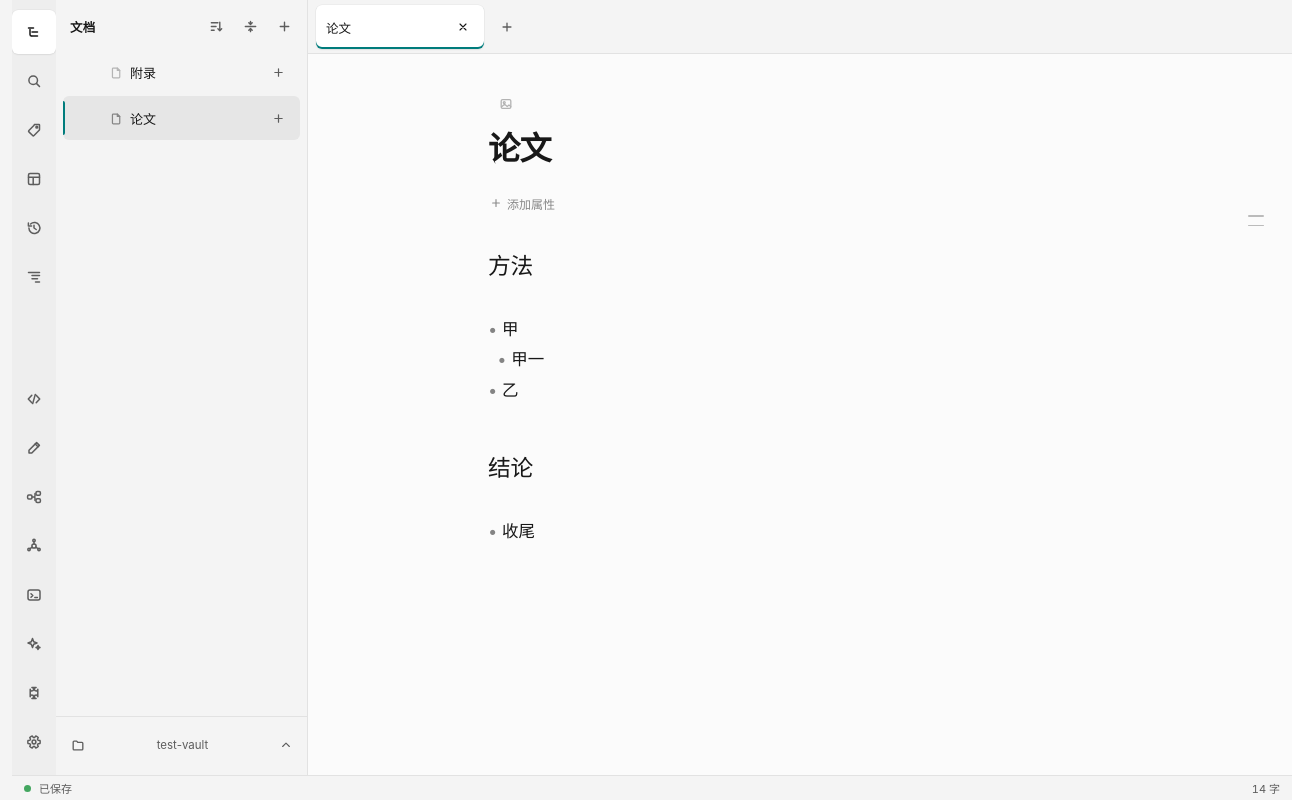
Test: 项目默认视图 › 项目中心可以把当前普通笔记原地设为项目
Click the button named "项目中心". click: click(34, 546)
box: x1=12 y1=524 x2=56 y2=568
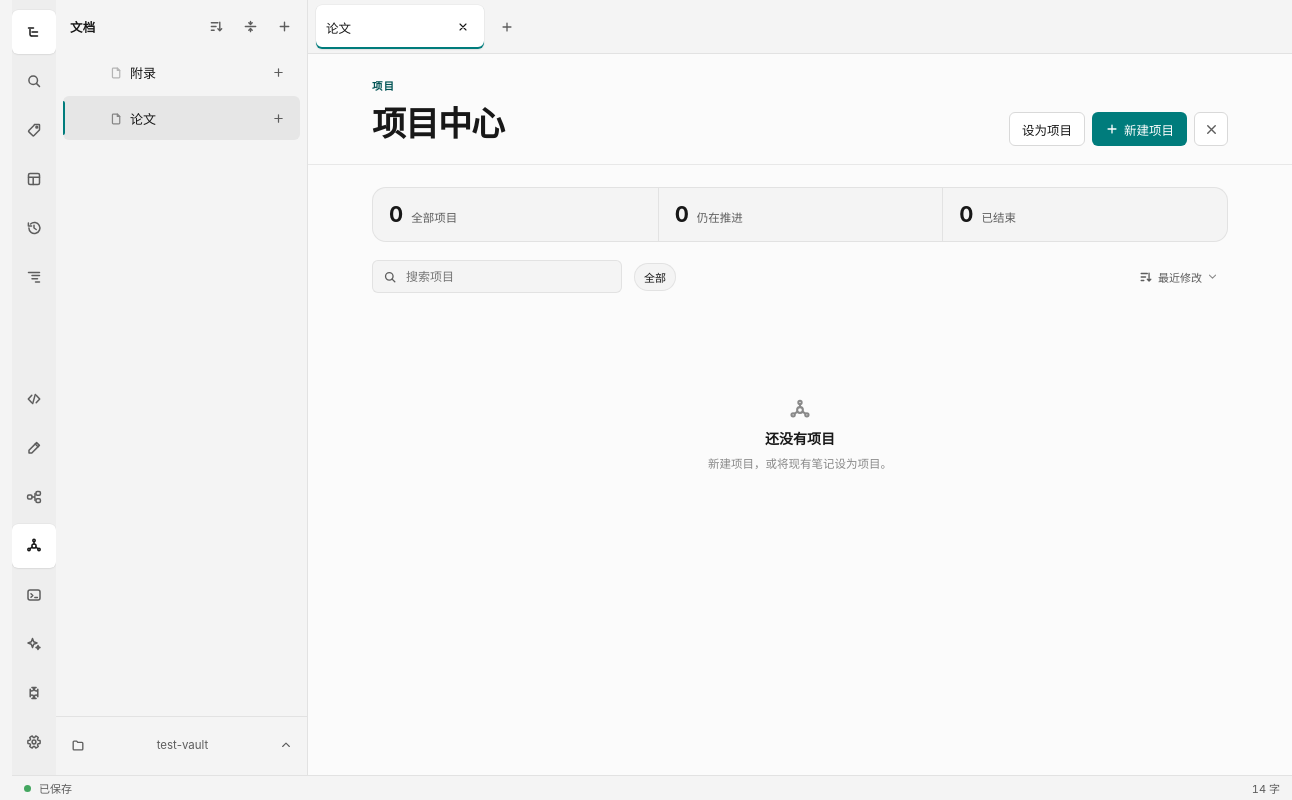
Click the button "设为项目". click: click(1047, 129)
box: x1=1009 y1=112 x2=1085 y2=146
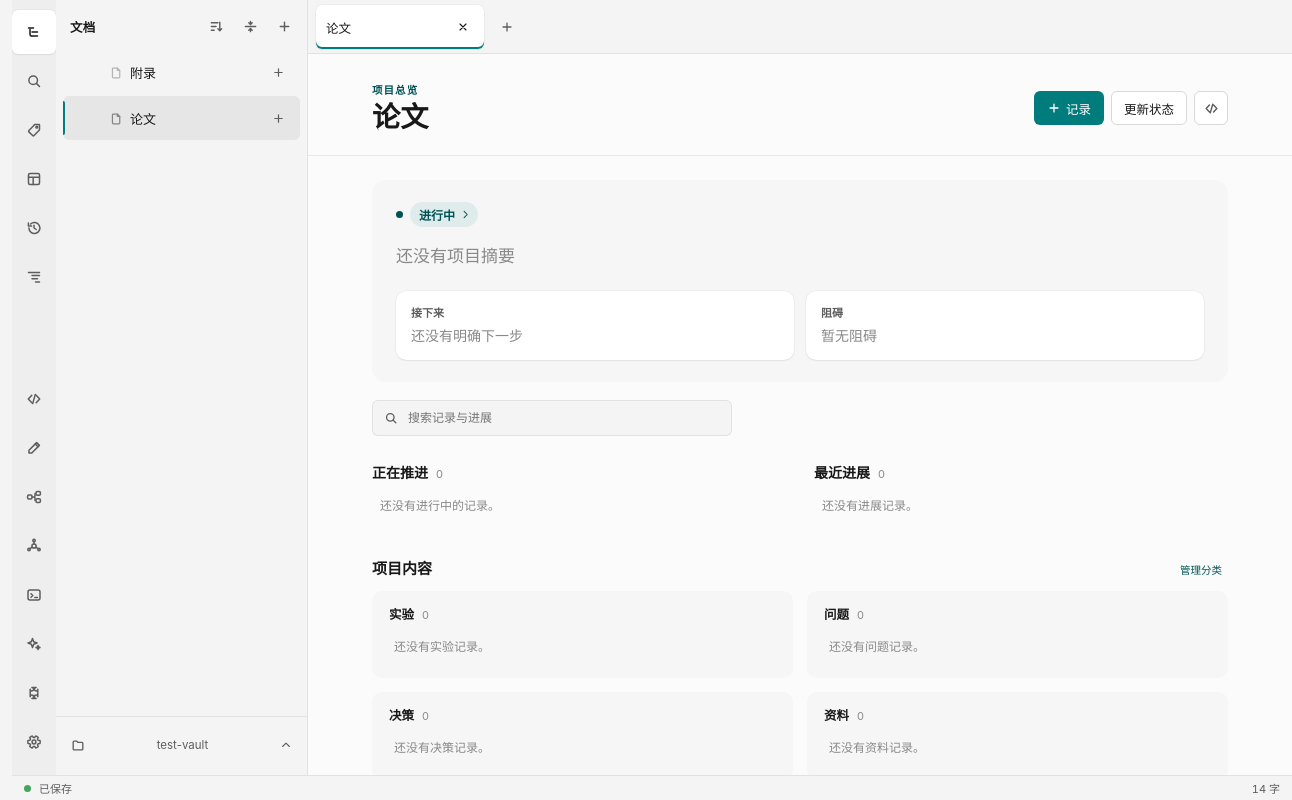
Check: the element named "论文 项目总览" is shown
